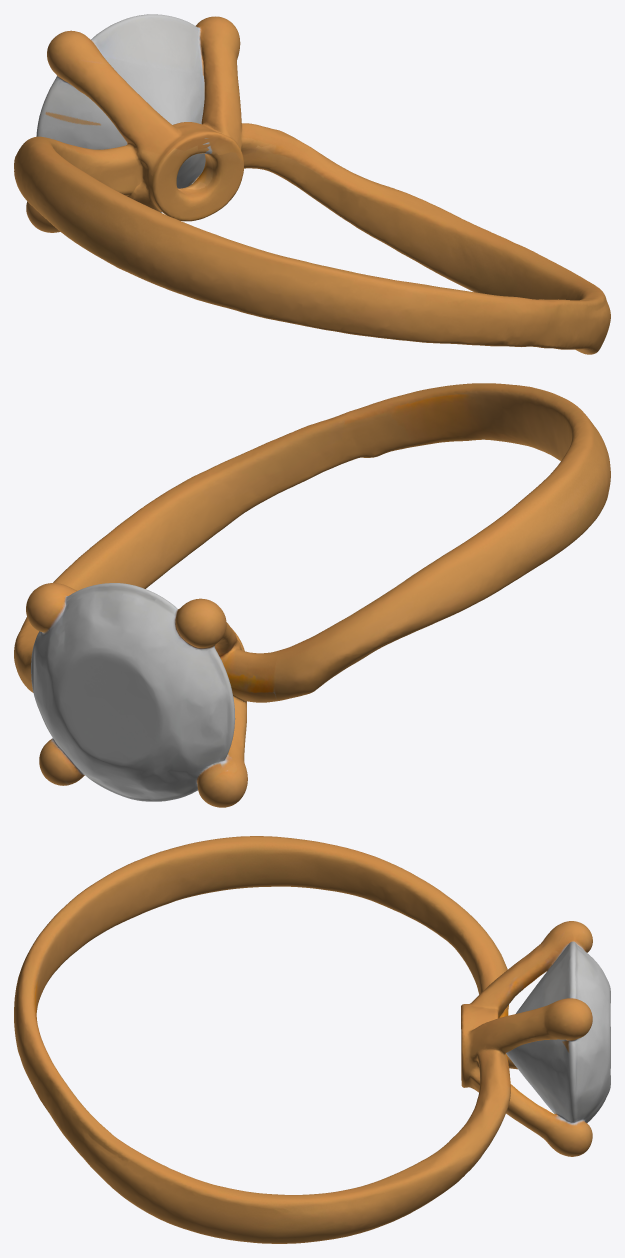
Rendered from ExquisiteRoseGold_high.glb.
The picture shows the model from 3 angles, top to bottom: view 1: azimuth 30°, elevation 25°; view 2: azimuth 150°, elevation 25°; view 3: azimuth 270°, elevation 25°; orthographic projection. The views are drawn at different scales.
Parts seen in each view (by area): view 1: node0; view 2: node0; view 3: node0.
Boxes of the visible parts, x1,y1,x2,y2 form: node0: (14, 14, 610, 354); node0: (14, 383, 610, 807); node0: (14, 836, 610, 1243).
Bounding box in the file's own units: 0.7771 × 0.3812 × 0.9502.
1 material, 1 textured.
